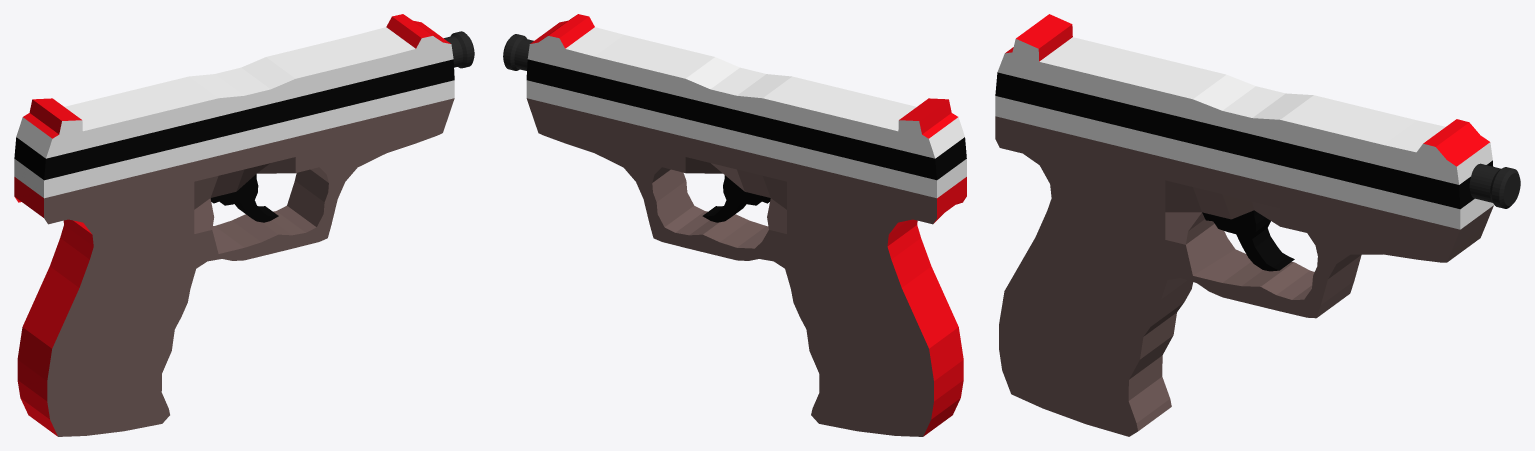
Rendered from gun.fbx.
3 renders of one model, left to right at view 1: azimuth 30°, elevation 25°; view 2: azimuth 150°, elevation 25°; view 3: azimuth 330°, elevation 25°, orthographic. The views are drawn at different scales.
Visible parts, largest first — view 1: pistola; view 2: pistola; view 3: pistola.
Boxes of the visible parts, x1=… form: pistola: x1=14, y1=14, x2=474, y2=436; pistola: x1=503, y1=14, x2=966, y2=436; pistola: x1=995, y1=14, x2=1520, y2=436.
Bounding box in the file's own units: 10.66 × 7.58 × 1.25.
